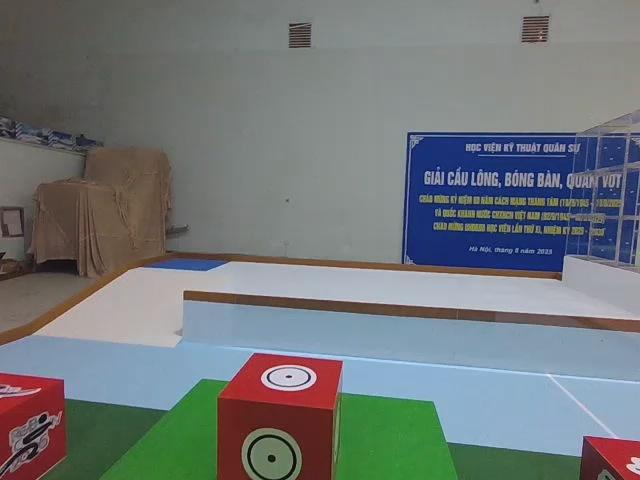R1: (0, 368, 69, 480)
R2 Real: (214, 352, 343, 480)
